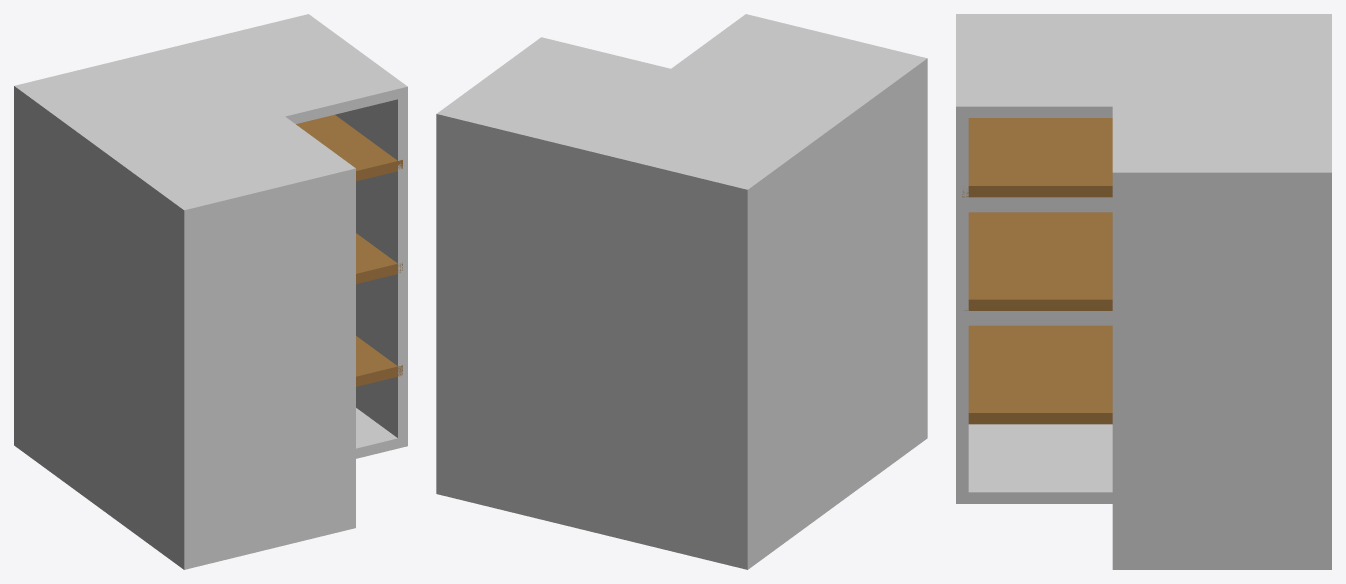
File: upper_corner_open_v1.glb
3 renders of one model, left to right at view 1: azimuth 30°, elevation 25°; view 2: azimuth 150°, elevation 25°; view 3: azimuth 270°, elevation 25°, orthographic. The views are drawn at different scales.
Parts seen in each view (by area): view 1: world; view 2: world; view 3: world.
Part boxes in pixels (x1=…): world: x1=14, y1=14, x2=407, y2=569; world: x1=436, y1=14, x2=927, y2=569; world: x1=956, y1=14, x2=1331, y2=569.
Bounding box in the file's own units: 60 × 70 × 60.
